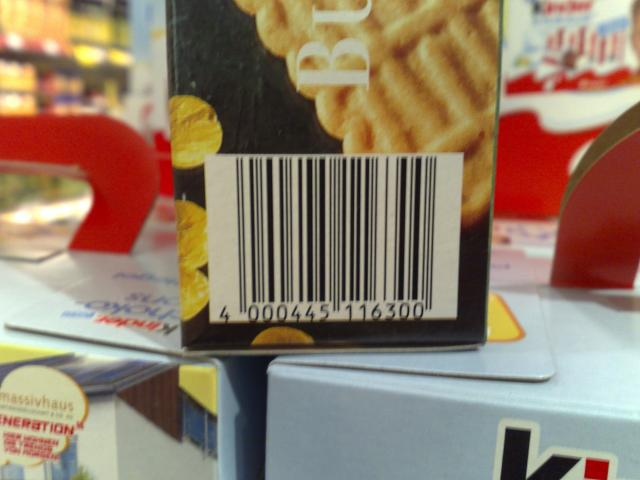Barkod: (234, 155, 437, 302)
